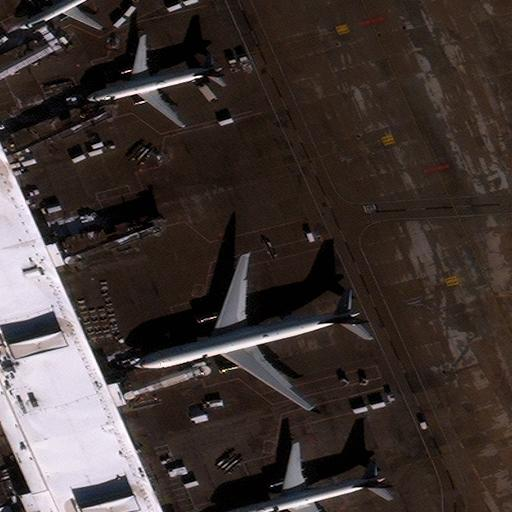Large Civil Transport: (133, 254, 368, 411), (224, 444, 392, 512)
Medium Civil Transport: (87, 37, 221, 127), (18, 0, 111, 30)
